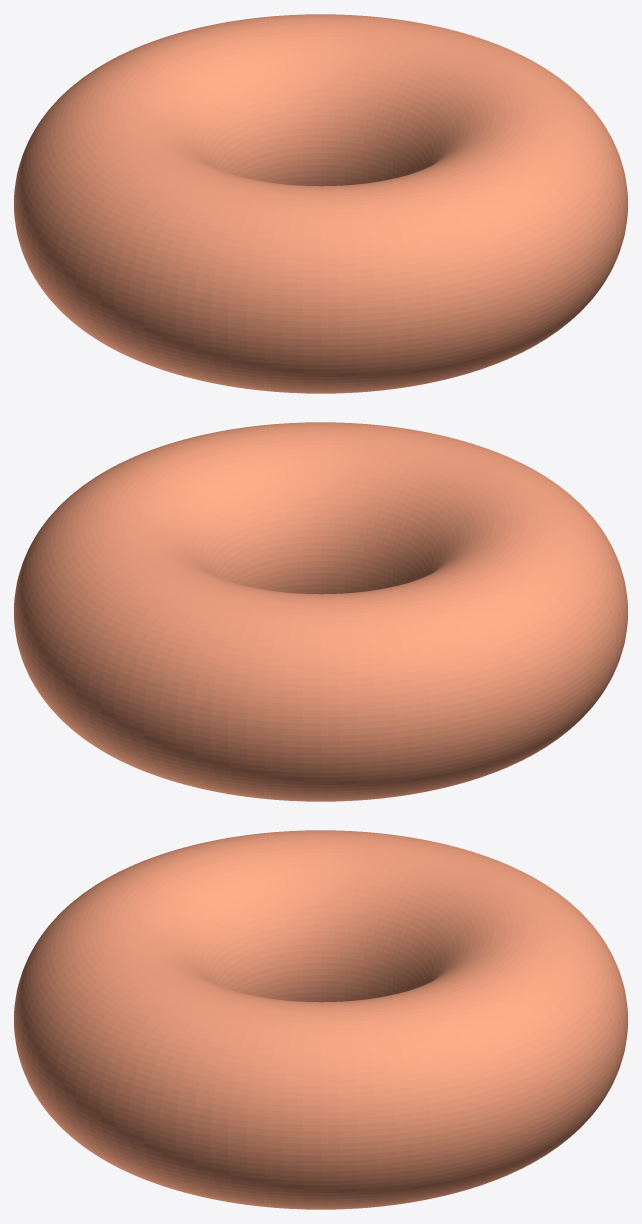
File: donut.fbx
The picture shows the model from 3 angles, top to bottom: view 1: azimuth 30°, elevation 25°; view 2: azimuth 150°, elevation 25°; view 3: azimuth 270°, elevation 25°; orthographic projection.
Visible parts, largest first — view 1: Torus; view 2: Torus; view 3: Torus.
Boxes of the visible parts, x1=… form: Torus: x1=14, y1=14, x2=627, y2=393; Torus: x1=14, y1=422, x2=627, y2=801; Torus: x1=14, y1=830, x2=627, y2=1209.
Size of the model in its own units: 148 by 49.99 by 148.
